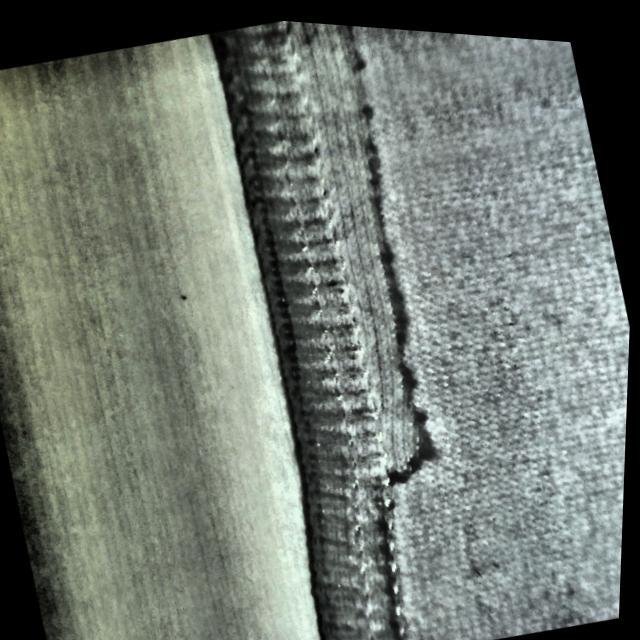seam: (196, 12, 497, 502)
